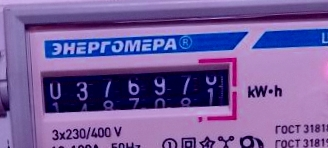0: (46, 77, 62, 100)
1: (204, 85, 216, 106)
3: (74, 79, 90, 101)
6: (125, 72, 141, 96)
7: (99, 74, 116, 99), (177, 72, 194, 95)
9: (151, 72, 166, 95)
screen: (31, 45, 244, 135)
